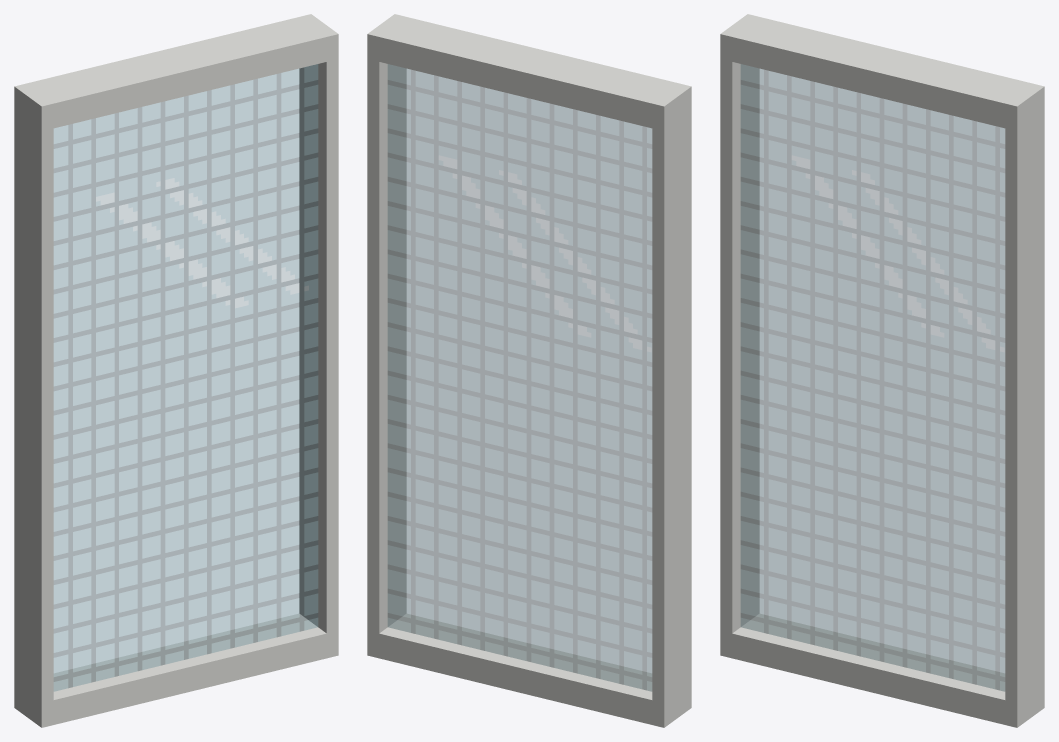
The model's file is t_reinforced_glass_lab.glb.
3 renders of one model, left to right at view 1: azimuth 30°, elevation 25°; view 2: azimuth 150°, elevation 25°; view 3: azimuth 330°, elevation 25°, orthographic.
Parts seen in each view (by area): view 1: block_pane, block_mullion-0.5, block_mullion0.46, block_head, block_sill; view 2: block_pane, block_mullion-0.5, block_mullion0.46, block_head, block_sill; view 3: block_pane, block_mullion0.46, block_mullion-0.5, block_head, block_sill.
Part boxes in pixels (x1,y1,x2,y2): block_pane: [53, 64, 318, 691]; block_mullion-0.5: [14, 111, 53, 702]; block_mullion0.46: [299, 59, 338, 633]; block_head: [14, 14, 338, 131]; block_sill: [14, 613, 338, 727]; block_pane: [387, 64, 652, 691]; block_mullion-0.5: [652, 111, 691, 702]; block_mullion0.46: [367, 59, 406, 633]; block_head: [367, 14, 691, 131]; block_sill: [367, 613, 691, 727]; block_pane: [740, 64, 1005, 691]; block_mullion0.46: [1005, 111, 1044, 702]; block_mullion-0.5: [720, 59, 759, 633]; block_head: [720, 14, 1044, 131]; block_sill: [720, 613, 1044, 727].
Bounding box in the file's own units: 1 × 2 × 0.16.
2 materials, 2 textured.
